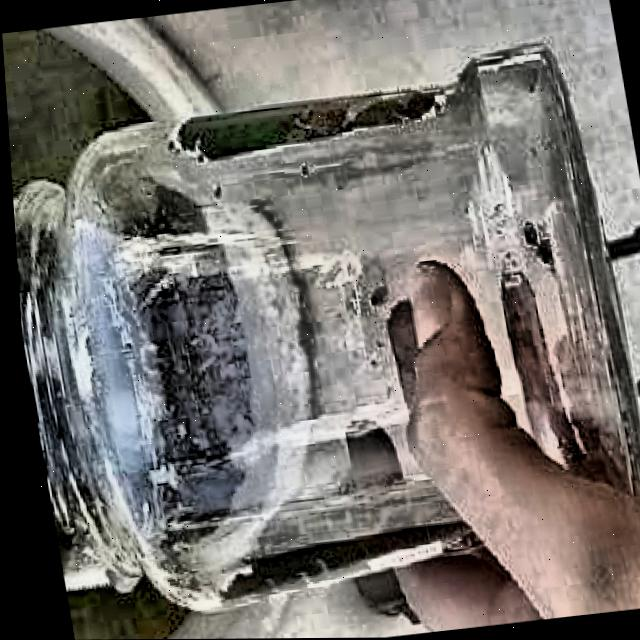glass: (10, 45, 640, 610)
